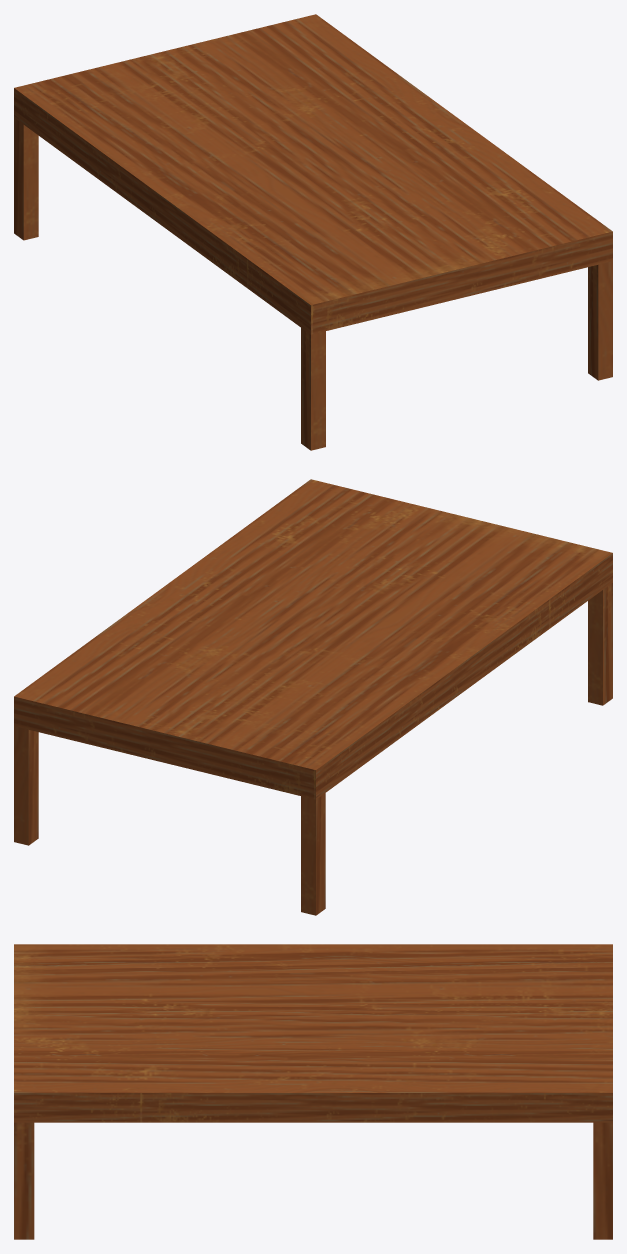
The model's file is Table.fbx.
3 renders of one model, top to bottom at view 1: azimuth 30°, elevation 25°; view 2: azimuth 150°, elevation 25°; view 3: azimuth 270°, elevation 25°, orthographic.
Visible parts, largest first — view 1: Cube; view 2: Cube; view 3: Cube.
Part boxes in pixels (x1,y1,x2,y2): Cube: (14,14,612,450); Cube: (14,479,612,915); Cube: (14,944,612,1239).
Bounding box in the file's own units: 621 × 286 × 1057.
